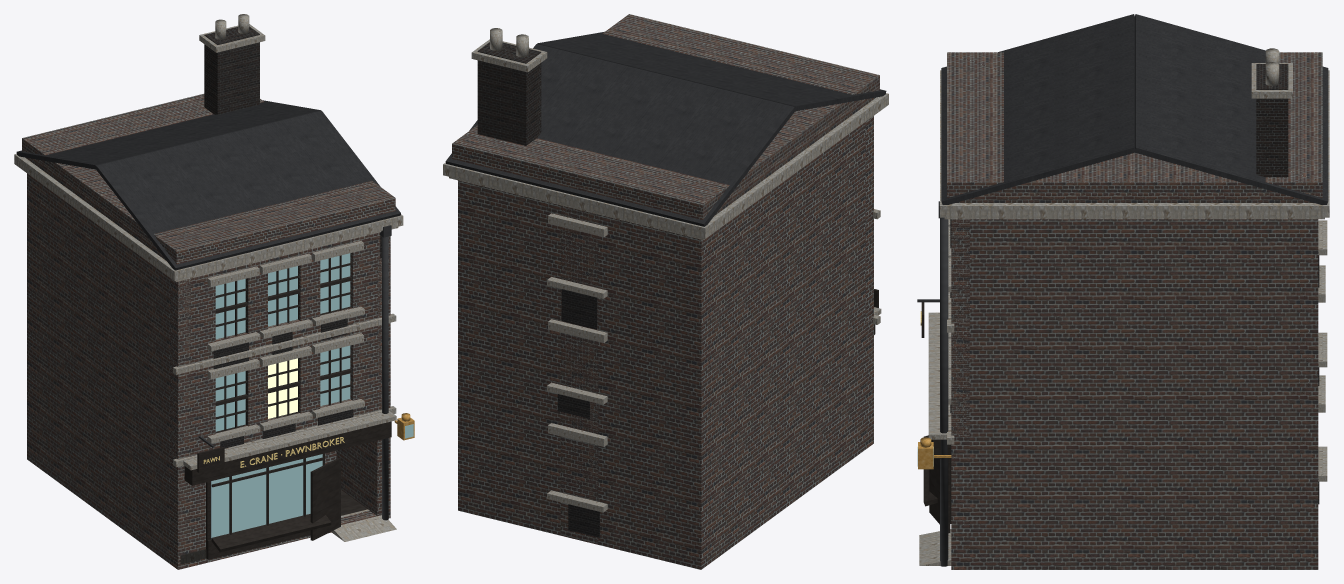
Rendered from prop_ashmoor_shopfront.glb.
The picture shows the model from 3 angles, left to right: view 1: azimuth 30°, elevation 25°; view 2: azimuth 150°, elevation 25°; view 3: azimuth 270°, elevation 25°; orthographic projection. The views are drawn at different scales.
Visible parts, largest first — view 1: building_ashmoor_shopfront; view 2: building_ashmoor_shopfront; view 3: building_ashmoor_shopfront.
Part boxes in pixels (box(x1,y1,x2,y2)): building_ashmoor_shopfront: box(14, 14, 414, 569); building_ashmoor_shopfront: box(443, 14, 888, 569); building_ashmoor_shopfront: box(917, 14, 1329, 569).
Size of the model in its own units: 7.07 by 11.95 by 8.99.
Materials: 13 (12 with a texture image).
